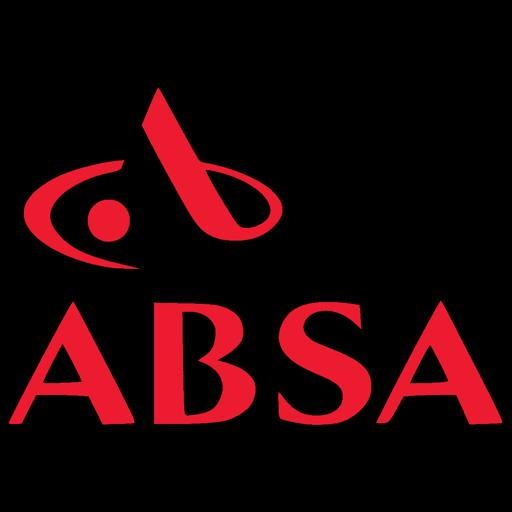Absa Group: (0, 79, 512, 433)
